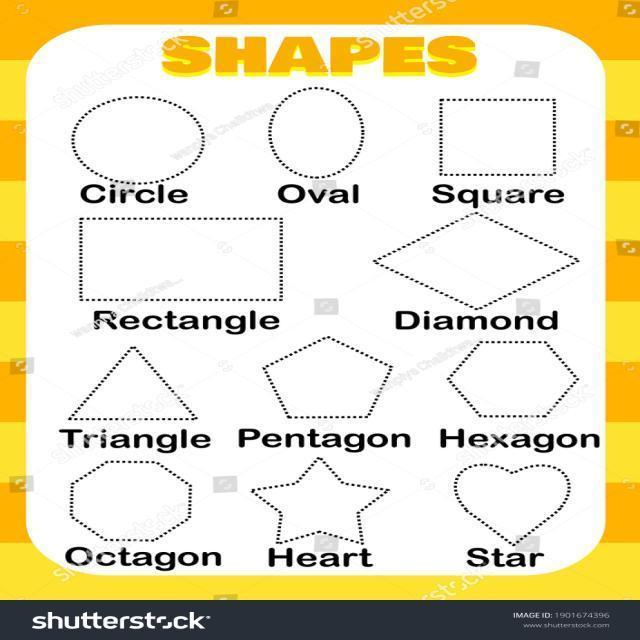circle: (63, 85, 217, 202), (262, 80, 374, 202)
square: (426, 86, 569, 191)
triangle: (47, 336, 211, 443)
